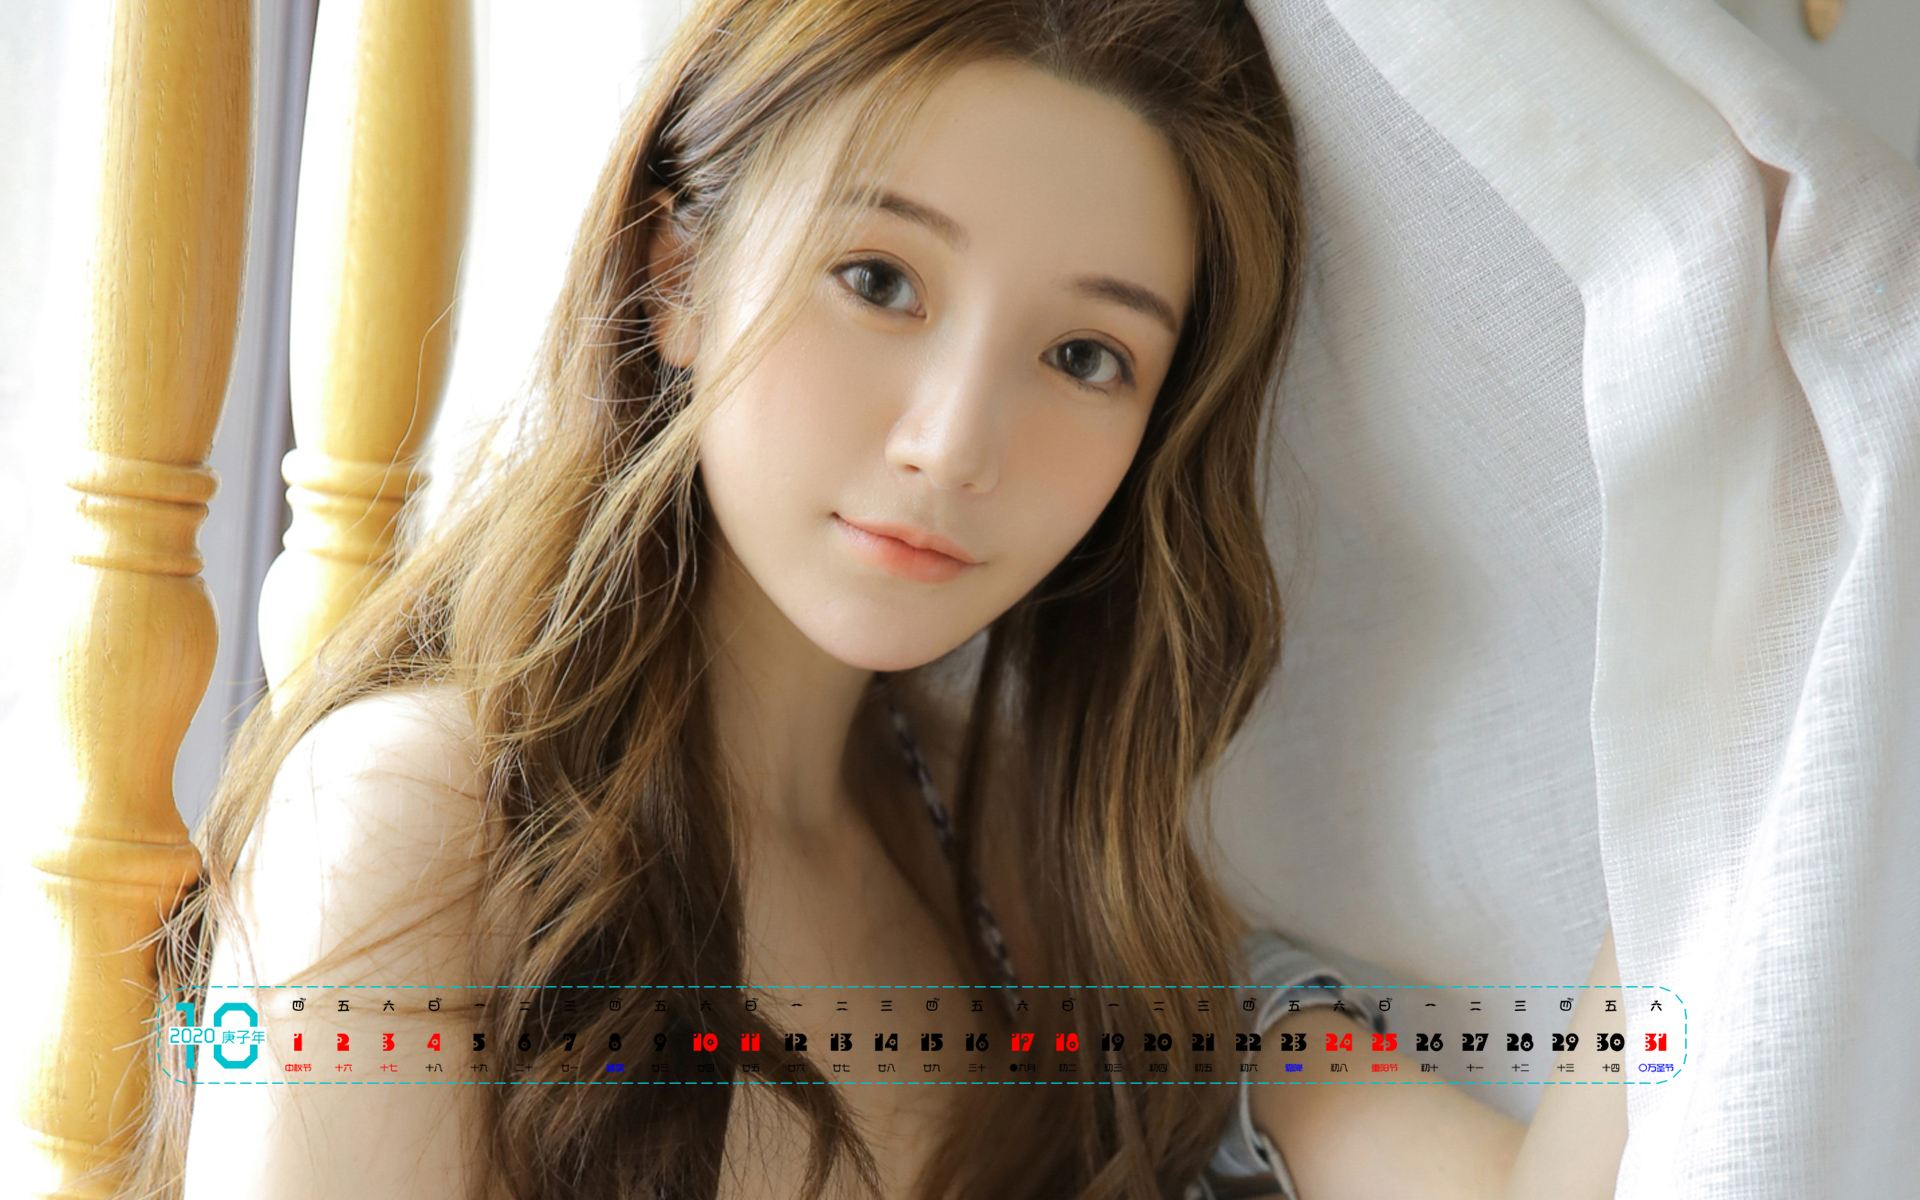person: (497, 23, 1558, 1200)
